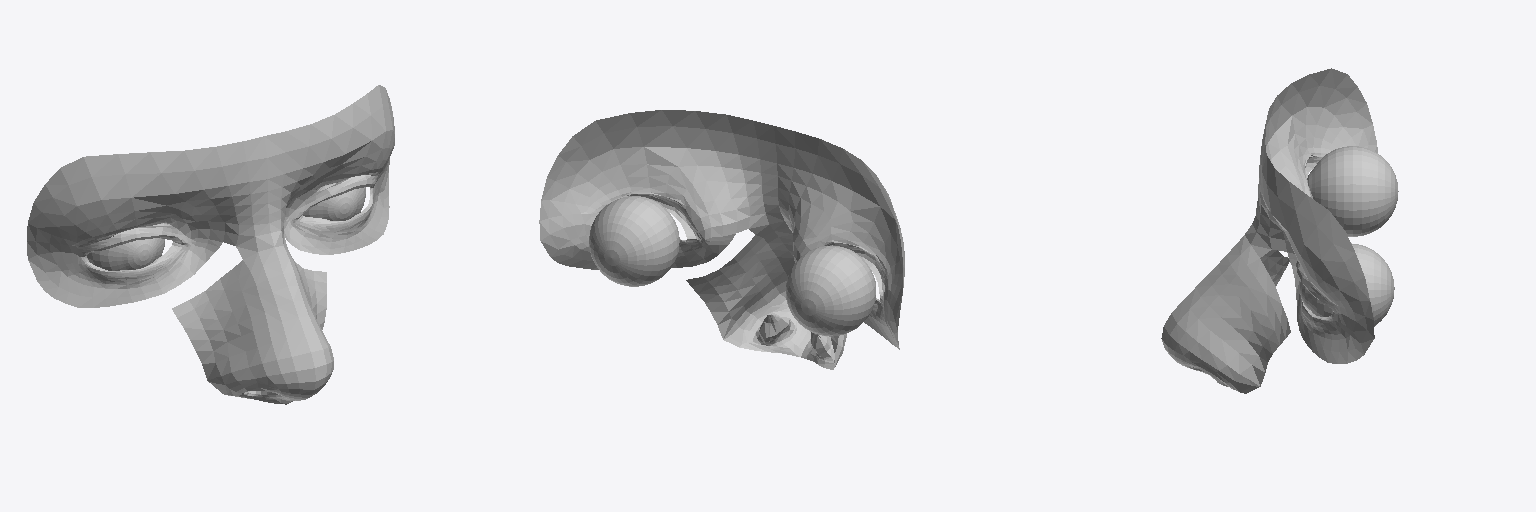
Rendered from juju.obj.
The picture shows the model from 3 angles: view 1: azimuth 30°, elevation 25°; view 2: azimuth 150°, elevation 25°; view 3: azimuth 270°, elevation 25°; orthographic projection.
Bounding box in the file's own units: 0.1156 × 0.0758 × 0.0653.